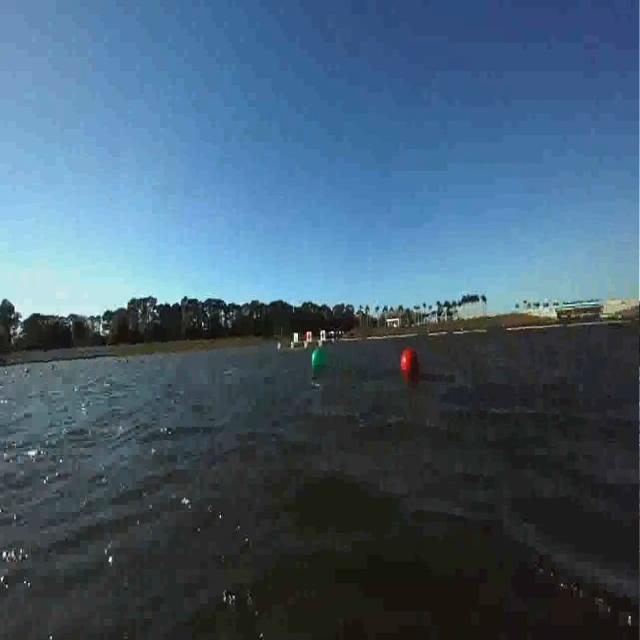green-buoy: (308, 339, 337, 388)
red-buoy: (395, 348, 419, 388)
